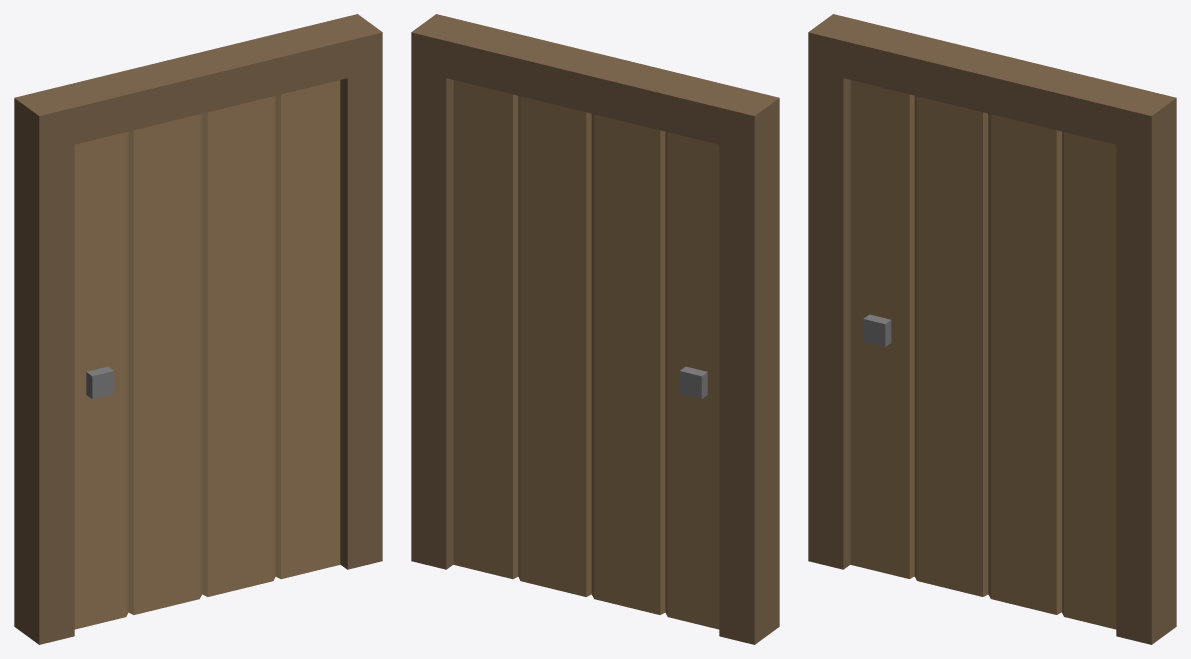
File: SM_Tower_01_Door_A.fbx
3 views of the same model, side by side, from view 1: azimuth 30°, elevation 25°; view 2: azimuth 150°, elevation 25°; view 3: azimuth 330°, elevation 25° (orthographic).
Parts seen in each view (by area): view 1: pCube705; view 2: pCube705; view 3: pCube705.
Part boxes in pixels (x1,y1,x2,y2): pCube705: (14,14,382,644); pCube705: (411,14,779,644); pCube705: (808,14,1176,644).
Bounding box in the file's own units: 169 × 248 × 21.35.
1 material, 1 textured.
